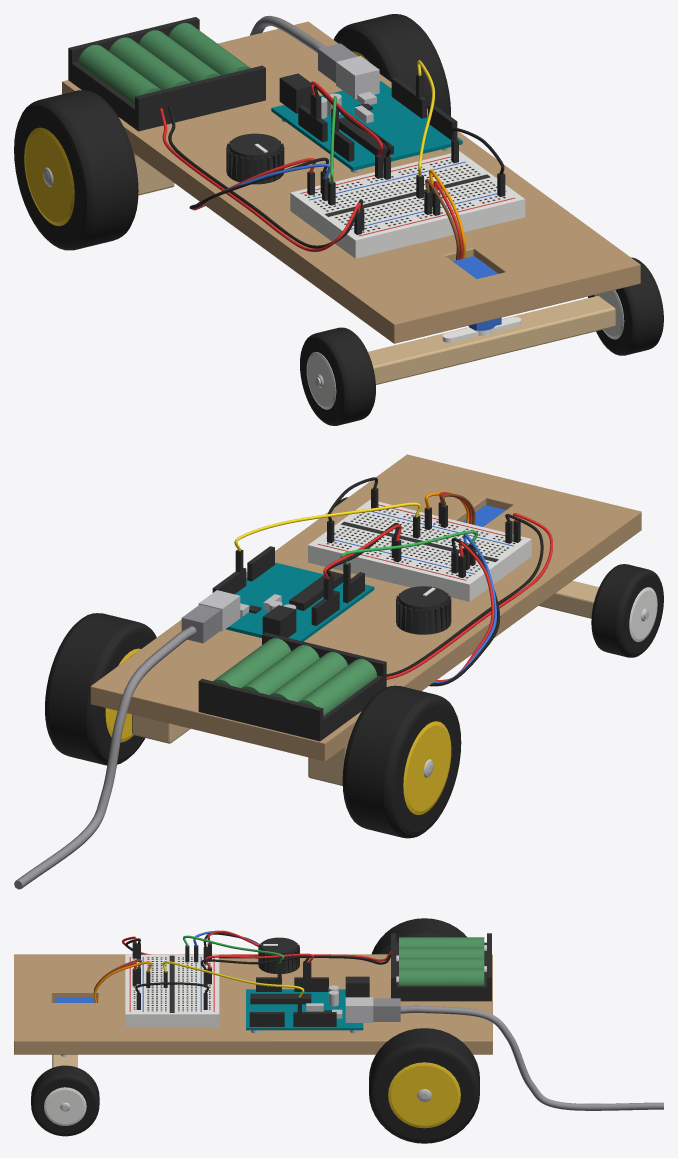
The model's file is CarroGemelo.fbx.
3 renders of one model, top to bottom at view 1: azimuth 30°, elevation 25°; view 2: azimuth 150°, elevation 25°; view 3: azimuth 270°, elevation 25°, orthographic. The views are drawn at different scales.
Parts seen in each view (by area): view 1: Tabla, Rueda_Trasera_Der, Porta_Pilas, Protoboard, Arduino_Uno, Eje_Delantero, Rueda_Delantera_Der, Rueda_Trasera_Izq, Rueda_Delantera_Izq, Conectores_Jumper, Perilla, Cable_Pilas_V (+6 smaller); view 2: Tabla, Rueda_Trasera_Der, Porta_Pilas, Protoboard, Rueda_Trasera_Izq, Arduino_Uno, Rueda_Delantera_Der, Cable_USB, Conectores_Jumper, Perilla, Eje_Delantero, Conector_USB (+5 smaller); view 3: Tabla, Rueda_Trasera_Izq, Porta_Pilas, Arduino_Uno, Protoboard, Rueda_Delantera_Izq, Cable_USB, Rueda_Trasera_Der, Conectores_Jumper, Perilla, Conector_USB, Cable_Pin9 (+5 smaller).
Part boxes in pixels (<box>): Tabla: <box>62,21,640,343</box>; Rueda_Trasera_Der: <box>14,90,138,250</box>; Porta_Pilas: <box>68,17,265,131</box>; Protoboard: <box>290,151,525,258</box>; Arduino_Uno: <box>271,56,462,172</box>; Eje_Delantero: <box>368,296,615,384</box>; Rueda_Delantera_Der: <box>300,327,375,425</box>; Rueda_Trasera_Izq: <box>333,14,450,116</box>; Rueda_Delantera_Izq: <box>588,257,663,355</box>; Conectores_Jumper: <box>307,74,505,234</box>; Perilla: <box>226,133,284,184</box>; Cable_Pilas_V: <box>159,108,360,251</box>; Tabla: <box>90,454,641,761</box>; Rueda_Trasera_Der: <box>342,685,461,838</box>; Porta_Pilas: <box>198,632,386,741</box>; Protoboard: <box>308,499,531,601</box>; Rueda_Trasera_Izq: <box>45,613,156,765</box>; Arduino_Uno: <box>198,546,374,641</box>; Rueda_Delantera_Der: <box>591,564,663,657</box>; Cable_USB: <box>14,626,196,889</box>; Conectores_Jumper: <box>235,488,520,599</box>; Perilla: <box>396,586,451,634</box>; Eje_Delantero: <box>538,580,598,618</box>; Conector_USB: <box>181,604,221,643</box>; Tabla: <box>14,954,492,1054</box>; Rueda_Trasera_Izq: <box>369,1028,479,1143</box>; Porta_Pilas: <box>391,933,491,1001</box>; Arduino_Uno: <box>246,976,373,1033</box>; Protoboard: <box>125,954,219,1027</box>; Rueda_Delantera_Izq: <box>31,1065,99,1136</box>; Cable_USB: <box>400,1005,663,1110</box>; Rueda_Trasera_Der: <box>371,918,466,954</box>; Conectores_Jumper: <box>132,941,311,1013</box>; Perilla: <box>258,937,299,973</box>; Conector_USB: <box>373,998,400,1021</box>; Cable_Pin9: <box>162,961,304,997</box>.
Bounding box in the file's own units: 0.181 × 0.38 × 0.0848.
